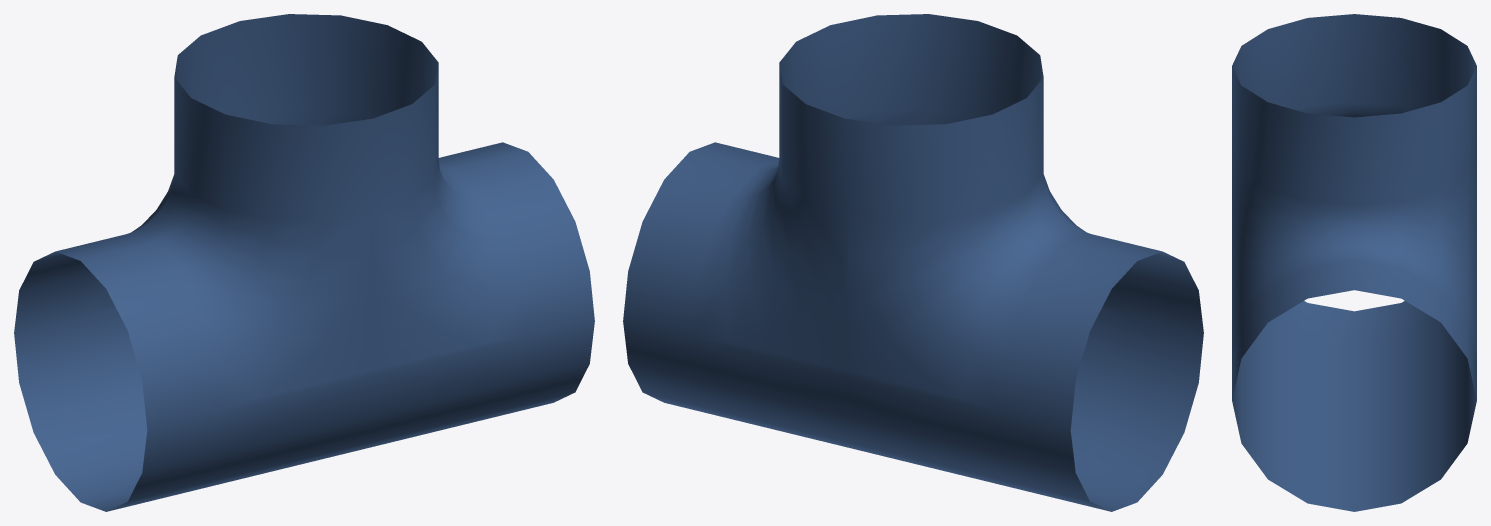
Rendered from BlueMetalDecorationSmallTSectionConnector1.fbx.
3 views of the same model, side by side, from view 1: azimuth 30°, elevation 25°; view 2: azimuth 150°, elevation 25°; view 3: azimuth 270°, elevation 25° (orthographic). The views are drawn at different scales.
Visible parts, largest first — view 1: BlueMetalDecorationSmallTSectionConnector1; view 2: BlueMetalDecorationSmallTSectionConnector1; view 3: BlueMetalDecorationSmallTSectionConnector1.
Boxes of the visible parts, box(x1,y1,x2,y2) form: BlueMetalDecorationSmallTSectionConnector1: box(14, 14, 594, 511); BlueMetalDecorationSmallTSectionConnector1: box(623, 14, 1203, 511); BlueMetalDecorationSmallTSectionConnector1: box(1232, 14, 1476, 511).
Bounding box in the file's own units: 116 × 93.8 × 60.
